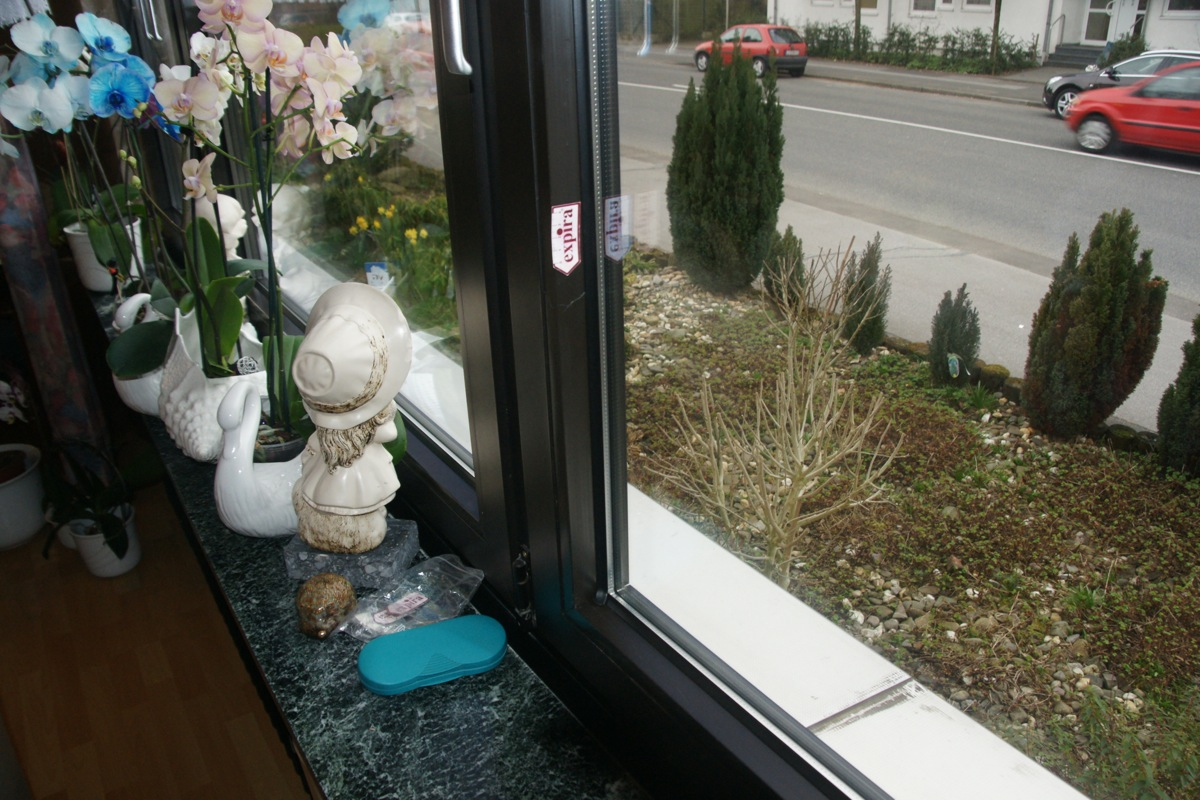windows: (521, 2, 1197, 800)
